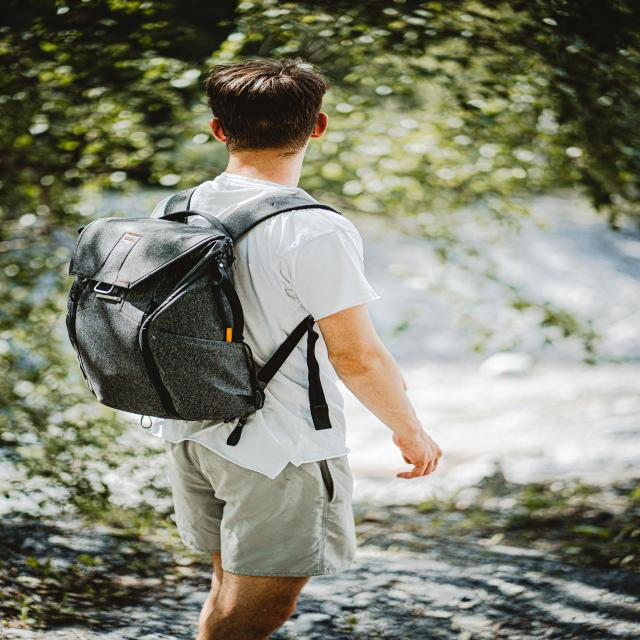backpack: (64, 190, 341, 425)
